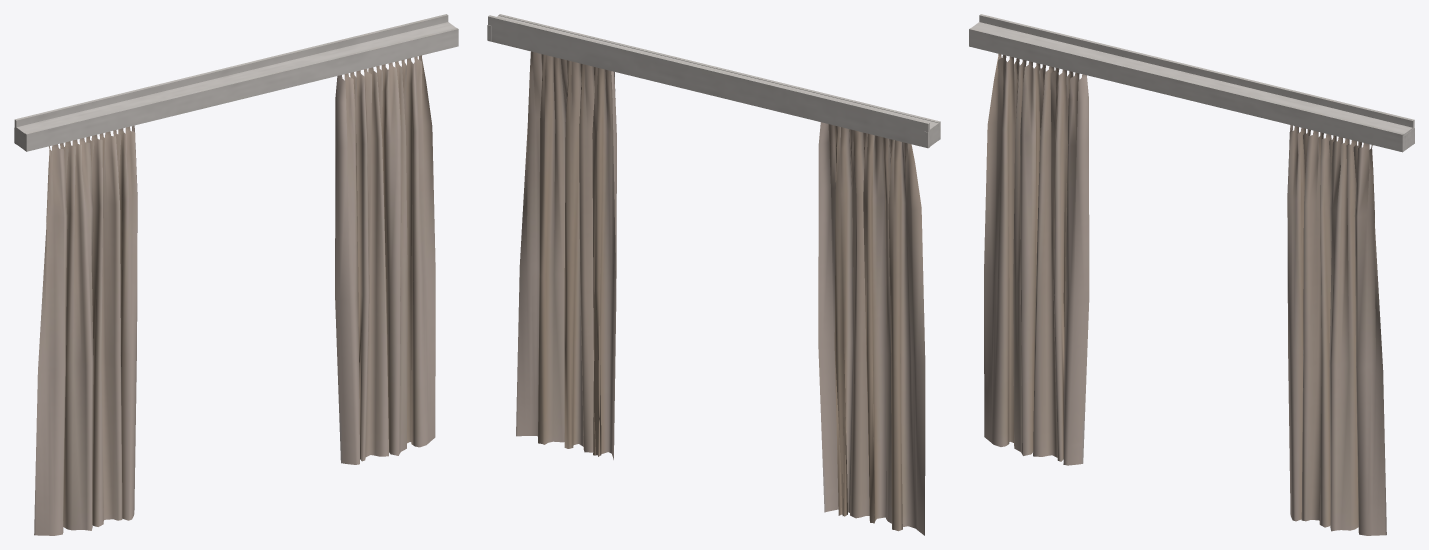
File: Curtains_House_D.FBX
3 views of the same model, side by side, from view 1: azimuth 30°, elevation 25°; view 2: azimuth 150°, elevation 25°; view 3: azimuth 330°, elevation 25° (orthographic).
Parts seen in each view (by area): view 1: Curtains_House_D; view 2: Curtains_House_D; view 3: Curtains_House_D.
Boxes of the visible parts, x1,y1,x2,y2 form: Curtains_House_D: [14, 14, 458, 535]; Curtains_House_D: [487, 14, 940, 535]; Curtains_House_D: [969, 14, 1414, 535].
Size of the model in its own units: 267 by 244 by 19.18.
